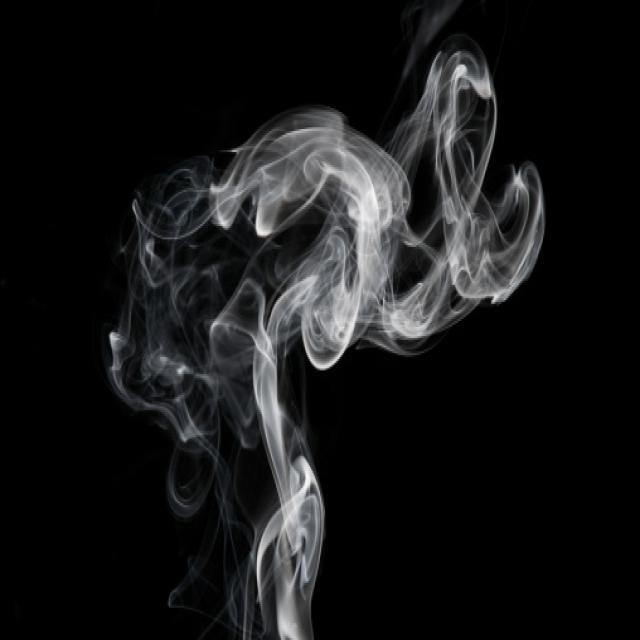Smoke: (109, 0, 546, 640)
